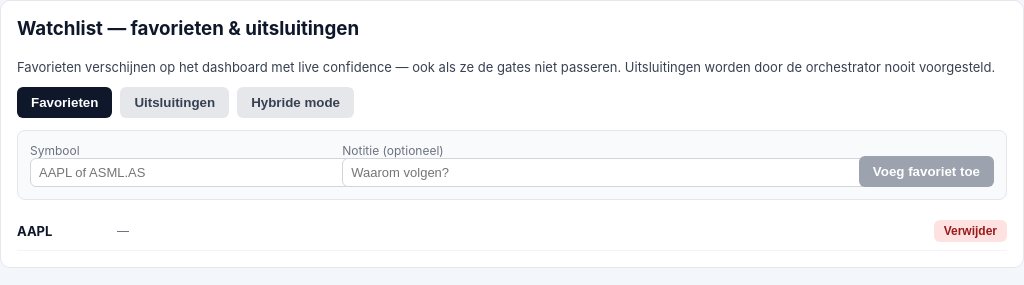
Test case: WatchlistPreferencesSettings › removes a favorite via the verwijder button
The width and height of the screenshot is (1024, 285).
Expected: the list item with test id "watchlist-favorieten-row-AAPL" is shown, x1=17 y1=212 x2=1007 y2=251
Click the button with test id "watchlist-favorieten-remove-AAPL" at (970, 231), box x1=934 y1=220 x2=1007 y2=242
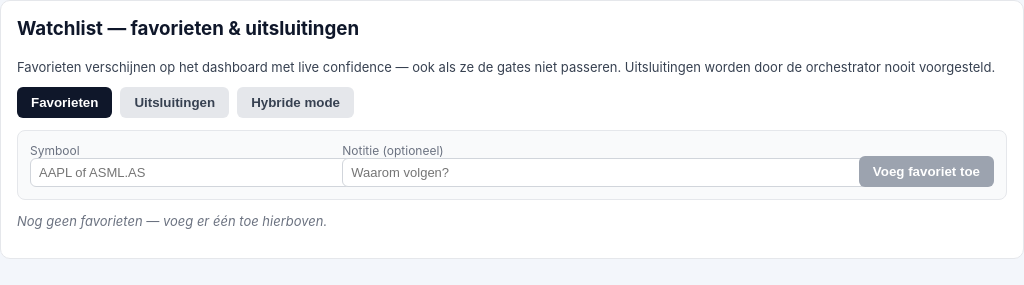
Now the text "Nog geen favorieten — voeg er één toe hierboven." is shown, box x1=17 y1=213 x2=327 y2=229
